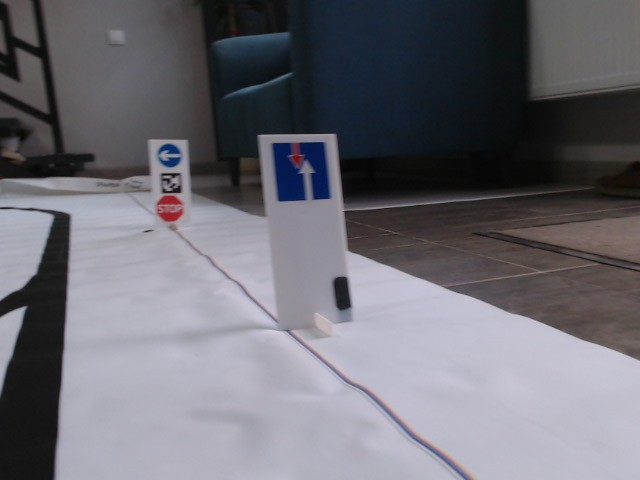Stop: (156, 195, 183, 221)
priority_movement: (269, 141, 331, 202)
